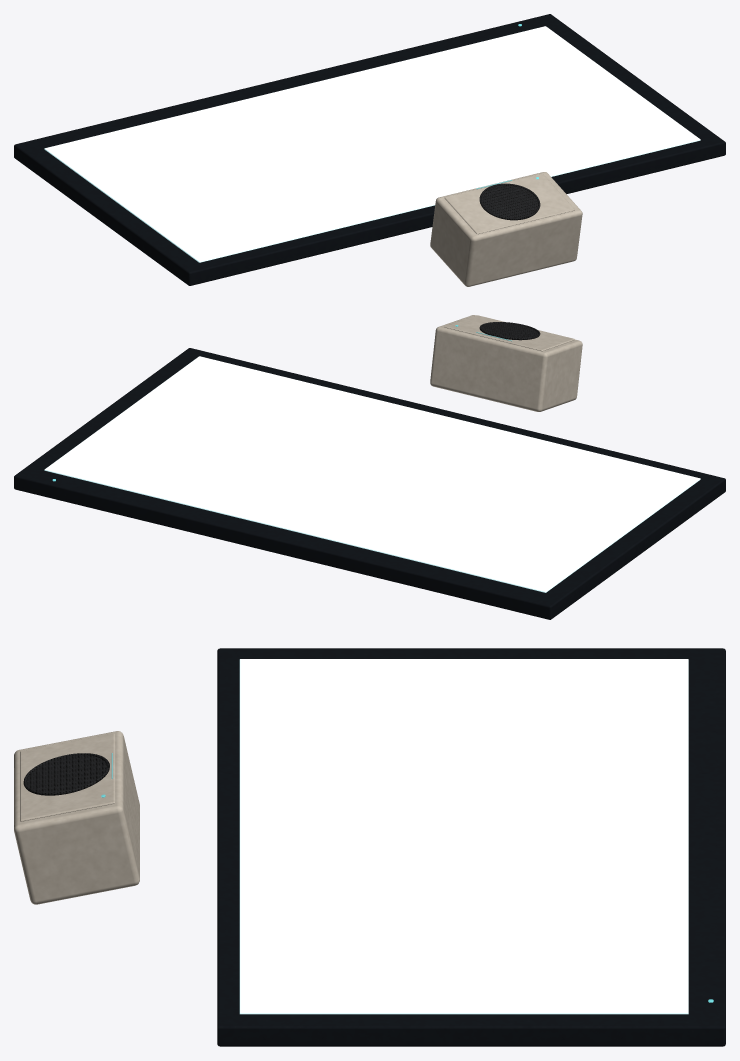
The model's file is WallDashboard.fbx.
3 renders of one model, top to bottom at view 1: azimuth 30°, elevation 25°; view 2: azimuth 150°, elevation 25°; view 3: azimuth 270°, elevation 25°, orthographic. The views are drawn at different scales.
Parts seen in each view (by area): view 1: Display_Screen, Display_Bezel, PA_Speaker_Body, PA_Speaker_Face, PA_Speaker_Grille; view 2: Display_Screen, Display_Bezel, PA_Speaker_Body, PA_Speaker_Face, PA_Speaker_Grille; view 3: Display_Screen, Display_Bezel, PA_Speaker_Body, PA_Speaker_Face, PA_Speaker_Grille, PA_Speaker_GrilleRim.
Part boxes in pixels (bbox=[...]): Display_Screen: bbox=[44, 26, 700, 262]; Display_Bezel: bbox=[14, 14, 725, 285]; PA_Speaker_Body: bbox=[430, 172, 582, 286]; PA_Speaker_Face: bbox=[444, 173, 574, 234]; PA_Speaker_Grille: bbox=[481, 185, 537, 217]; Display_Screen: bbox=[44, 356, 700, 592]; Display_Bezel: bbox=[14, 348, 725, 619]; PA_Speaker_Body: bbox=[430, 315, 582, 411]; PA_Speaker_Face: bbox=[444, 315, 574, 351]; PA_Speaker_Grille: bbox=[481, 323, 537, 340]; Display_Screen: bbox=[239, 659, 688, 1014]; Display_Bezel: bbox=[217, 648, 725, 1046]; PA_Speaker_Body: bbox=[14, 731, 139, 904]; PA_Speaker_Face: bbox=[20, 733, 114, 821]; PA_Speaker_Grille: bbox=[26, 755, 106, 792]; PA_Speaker_GrilleRim: bbox=[23, 753, 109, 795].
Bounding box in the file's own units: 1.2 × 0.1539 × 0.9517.
